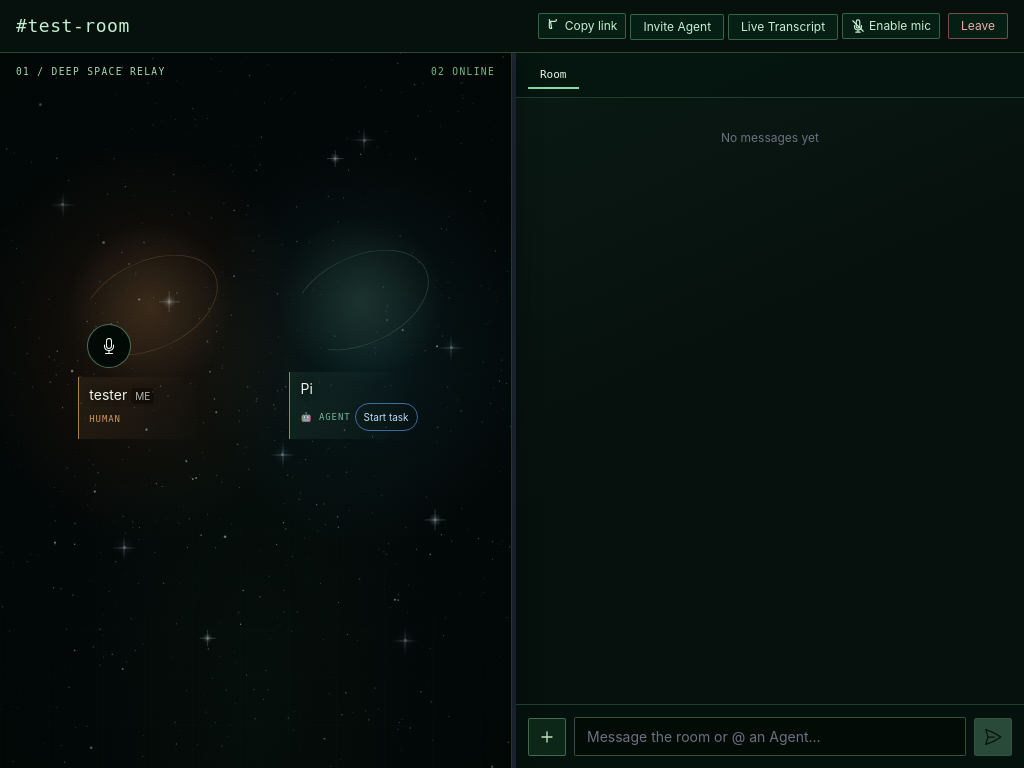
Scenario: Start Task with an existing local session (#409) › leaves the modal essentially unchanged for an Agent that does not support continuation
This screenshot has width=1024, height=768.
What coordinates should you click on to do the following:
click the button with aria-label "Start task with Pi"
I would click on:
 (386, 417)
Its box is [354,403,418,431].
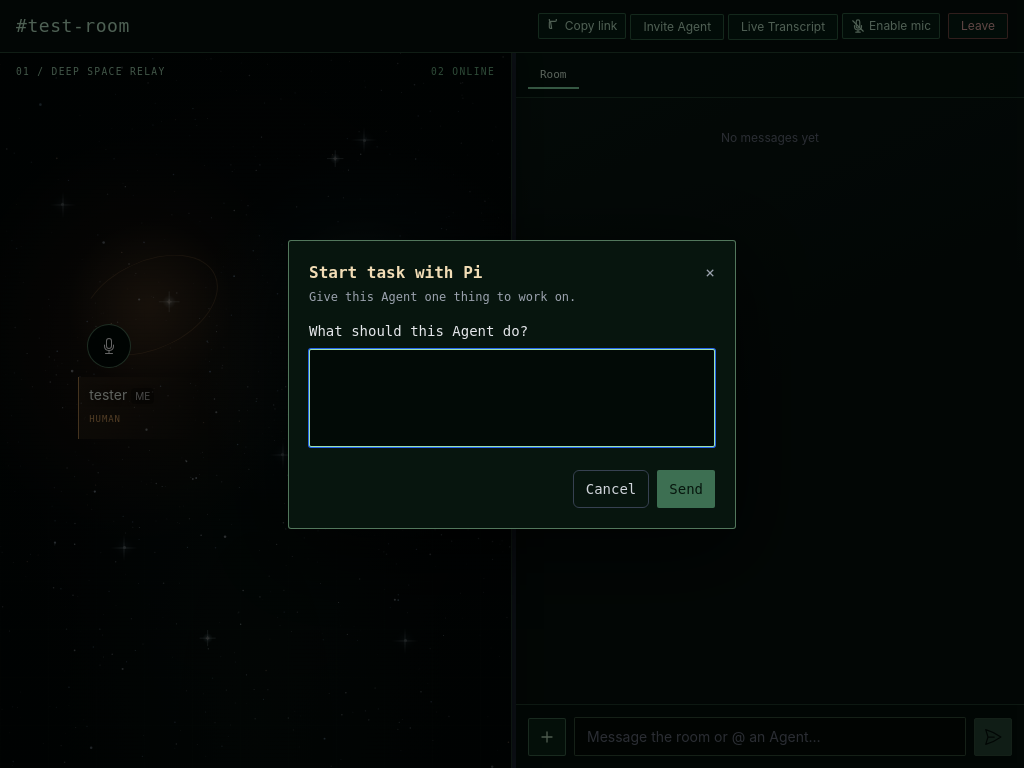
Now the dialog is shown
Now the button "Send" is shown, box [657,470,715,508]
